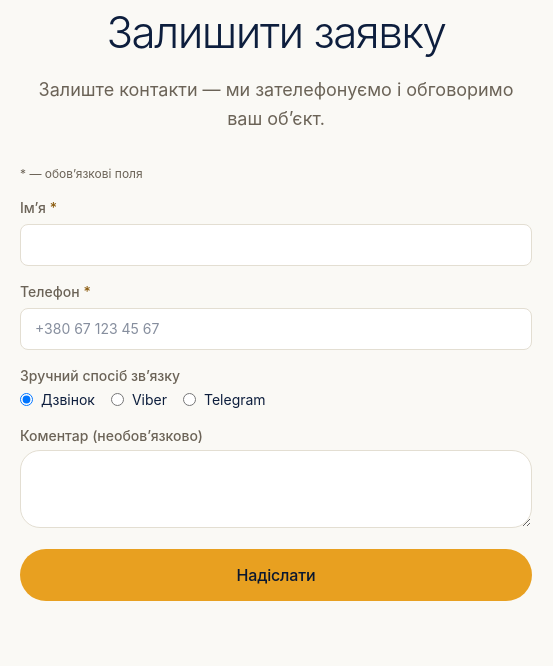
Test: ContactForm › marks both empty required fields rather than failing silently
Click the button "Надіслати".
click(276, 575)  # box [20,549,532,601]
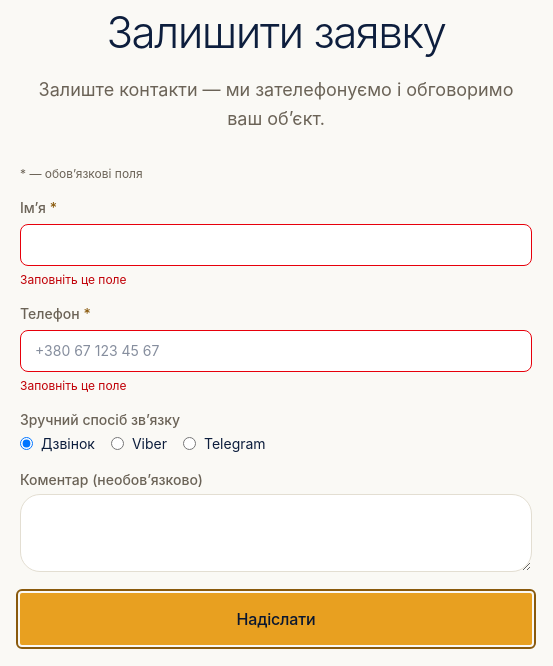
Now the text "Заповніть це поле" is shown 2 times, box [20,272,126,287]; [20,378,126,393]
